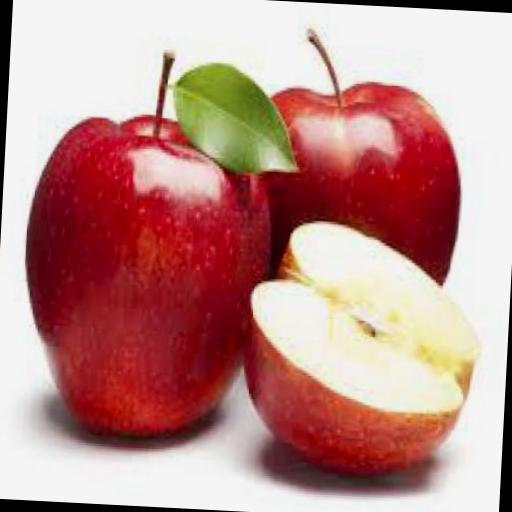biodegradable: (14, 44, 284, 450), (234, 215, 480, 484), (246, 76, 468, 307)
